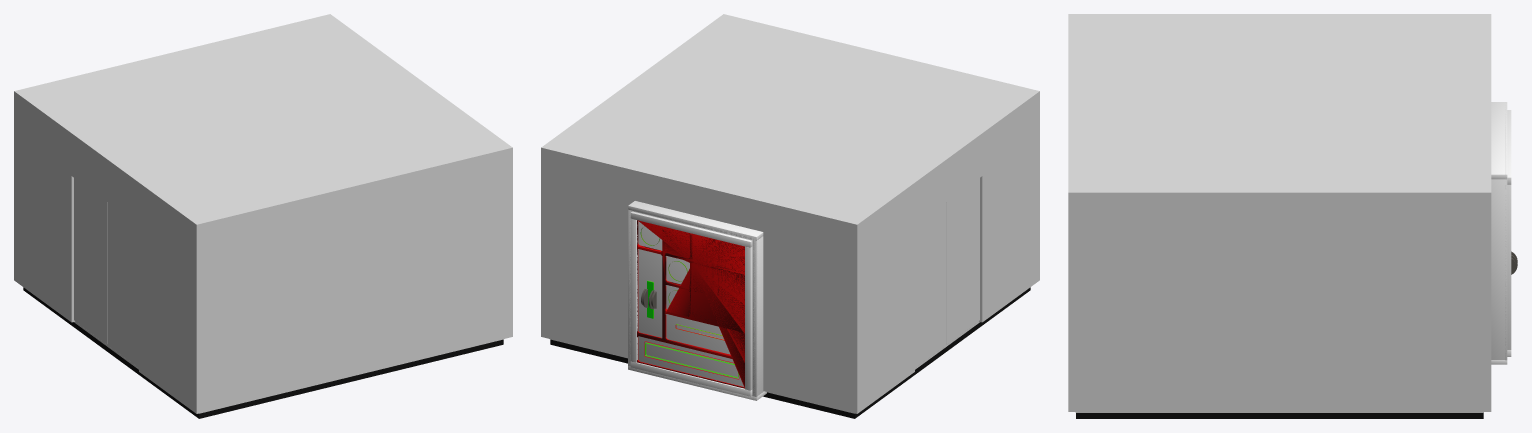
Rendered from ELV_Cabin_AD47.fbx.
3 renders of one model, left to right at view 1: azimuth 30°, elevation 25°; view 2: azimuth 150°, elevation 25°; view 3: azimuth 270°, elevation 25°, orthographic. The views are drawn at different scales.
Parts seen in each view (by area): view 1: SM_Cab_Ceiling, SM_Cab_Wall_Front, SM_Cab_Wall_Left, SM_Door_R, SM_Door_L, SM_Cab_FloorVoid, SM_Cab_Wall_Back, SM_Cab_FloorTrim; view 2: SM_Cab_Ceiling, SM_Cab_Wall_Back, SM_Cab_Wall_Left, SM_Cab_PanelRecess, SM_Harness_Fill, SM_Door_L, SM_Door_R, SM_Harness_Frame, SM_Cab_FloorVoid, SM_Cab_Wall_Front, SM_Dispenser_Housing; view 3: SM_Cab_Wall_Right, SM_Cab_Ceiling, SM_Cab_PanelRecess, SM_Cab_FloorVoid, SM_Cab_Wall_Back, SM_Cab_Wall_Front, SM_Harness_Frame.
Part boxes in pixels (box(x1,y1,x2,y2)): SM_Cab_Ceiling: box(14, 14, 512, 230); SM_Cab_Wall_Front: box(193, 154, 512, 413); SM_Cab_Wall_Left: box(17, 100, 193, 410); SM_Door_R: box(74, 178, 107, 344); SM_Door_L: box(107, 203, 138, 367); SM_Cab_FloorVoid: box(23, 287, 503, 418); SM_Cab_Wall_Back: box(14, 97, 17, 282); SM_Cab_FloorTrim: box(74, 321, 503, 413); SM_Cab_Ceiling: box(541, 14, 1039, 230); SM_Cab_Wall_Back: box(541, 154, 860, 413); SM_Cab_Wall_Left: box(860, 100, 1036, 410); SM_Cab_PanelRecess: box(628, 201, 766, 400); SM_Harness_Fill: box(637, 220, 744, 388); SM_Door_L: box(946, 178, 979, 344); SM_Door_R: box(915, 203, 946, 367); SM_Harness_Frame: box(630, 211, 752, 396); SM_Cab_FloorVoid: box(550, 287, 1030, 418); SM_Cab_Wall_Front: box(1036, 97, 1039, 282); SM_Dispenser_Housing: box(638, 337, 744, 387); SM_Cab_Wall_Right: box(1076, 200, 1483, 411); SM_Cab_Ceiling: box(1068, 14, 1491, 199); SM_Cab_PanelRecess: box(1491, 102, 1507, 364); SM_Cab_FloorVoid: box(1076, 413, 1483, 418); SM_Cab_Wall_Back: box(1483, 200, 1491, 411); SM_Cab_Wall_Front: box(1068, 200, 1075, 411); SM_Harness_Frame: box(1507, 110, 1511, 356).
Bounding box in the file's own units: 542 × 325 × 576.
